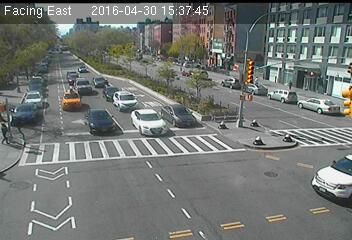neg: (228, 107, 245, 129), (246, 131, 261, 151), (188, 85, 202, 104), (277, 129, 290, 146), (137, 66, 149, 82), (63, 83, 72, 95)
pos: (286, 78, 297, 93), (253, 75, 264, 88)
